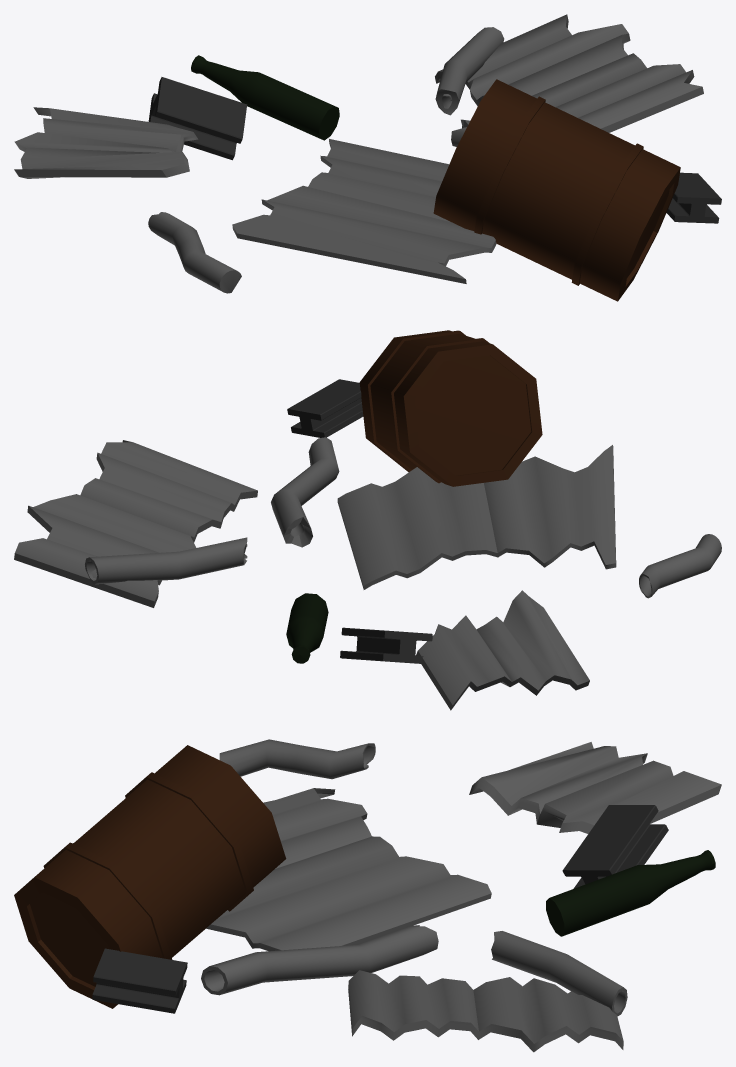
The model's file is Debris_Placeholder Model.fbx.
3 renders of one model, top to bottom at view 1: azimuth 30°, elevation 25°; view 2: azimuth 150°, elevation 25°; view 3: azimuth 270°, elevation 25°, orthographic. The views are drawn at different scales.
Parts seen in each view (by area): view 1: Cylinder001, Box001, Box002, Box003, Brick001, Bottle, Tube002, Tube001, Brick; view 2: Box001, Cylinder001, Box002, Box003, Tube001, Object001, Brick, Tube002, Brick001, Bottle; view 3: Cylinder001, Box001, Box002, Box003, Object001, Bottle, Brick001, Brick, Tube001, Tube002.
Part boxes in pixels (left/top/right/bottom): Cylinder001: left=433, top=79, right=680, bottom=301; Box001: left=232, top=139, right=496, bottom=283; Box002: left=435, top=14, right=703, bottom=132; Box003: left=14, top=107, right=198, bottom=178; Brick001: left=148, top=77, right=247, bottom=160; Bottle: left=191, top=55, right=339, bottom=140; Tube002: left=148, top=212, right=241, bottom=293; Tube001: left=435, top=27, right=504, bottom=115; Brick: left=666, top=172, right=721, bottom=223; Box001: left=337, top=445, right=616, bottom=589; Cylinder001: left=359, top=330, right=542, bottom=486; Box002: left=14, top=440, right=257, bottom=607; Box003: left=416, top=590, right=589, bottom=710; Tube001: left=85, top=537, right=247, bottom=584; Object001: left=271, top=437, right=339, bottom=547; Brick: left=287, top=379, right=363, bottom=437; Tube002: left=639, top=534, right=721, bottom=598; Brick001: left=340, top=627, right=432, bottom=663; Bottle: left=286, top=593, right=328, bottom=663; Cylinder001: left=14, top=745, right=286, bottom=1008; Box001: left=73, top=788, right=491, bottom=951; Box002: left=348, top=970, right=623, bottom=1052; Box003: left=469, top=742, right=721, bottom=833; Object001: left=201, top=925, right=438, bottom=995; Bottle: left=546, top=850, right=715, bottom=936; Brick001: left=562, top=805, right=668, bottom=888; Brick: left=92, top=948, right=187, bottom=1013; Tube001: left=491, top=931, right=627, bottom=1016; Tube002: left=219, top=739, right=375, bottom=779.
Size of the model in its own units: 1.19 by 1.13 by 0.3542.
